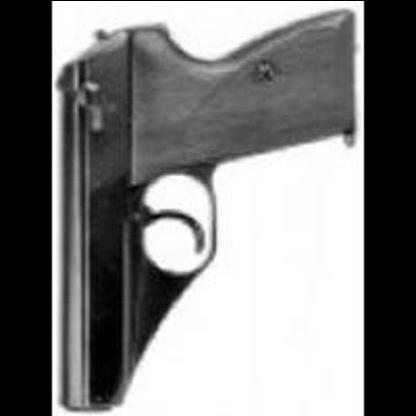weapon: (56, 8, 360, 416)
